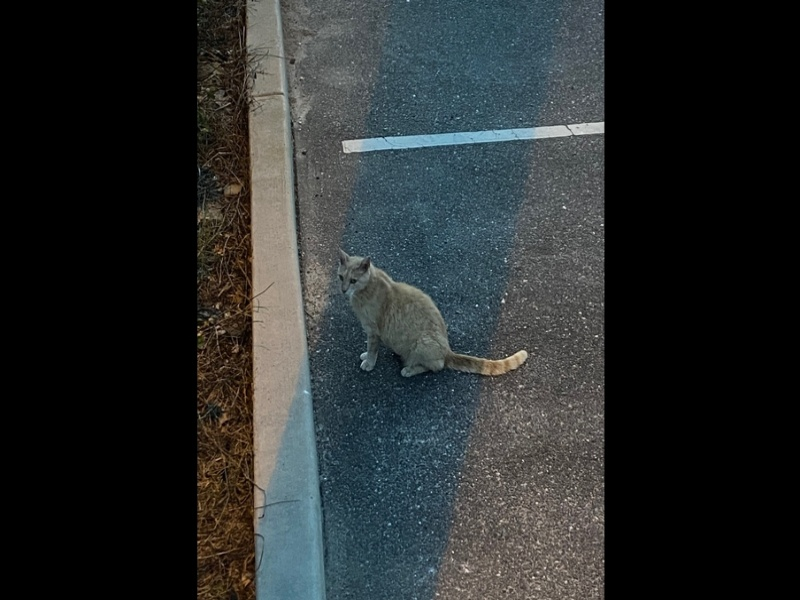cat: (334, 245, 532, 380)
